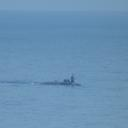submarine: (42, 73, 88, 85)
